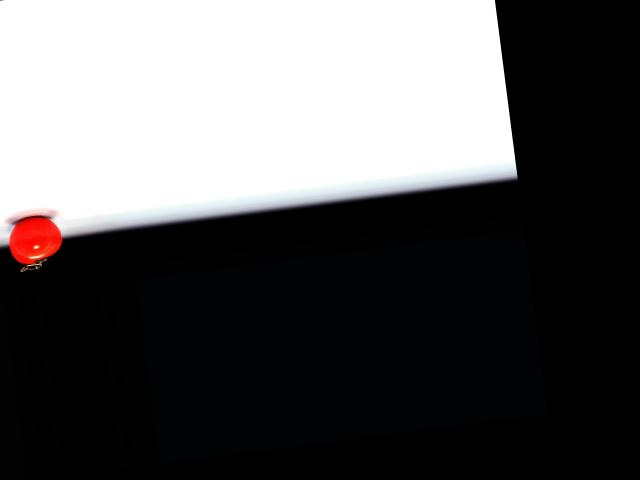tomato: (6, 213, 65, 266)
